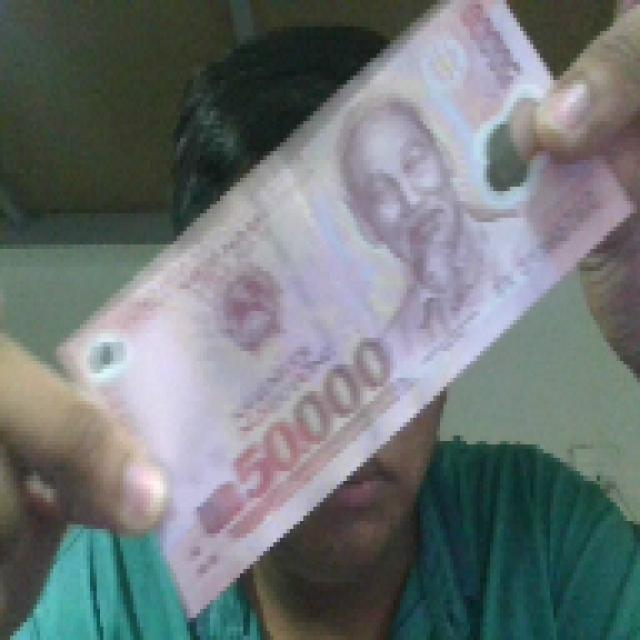50 000 VND: (53, 0, 637, 622)
